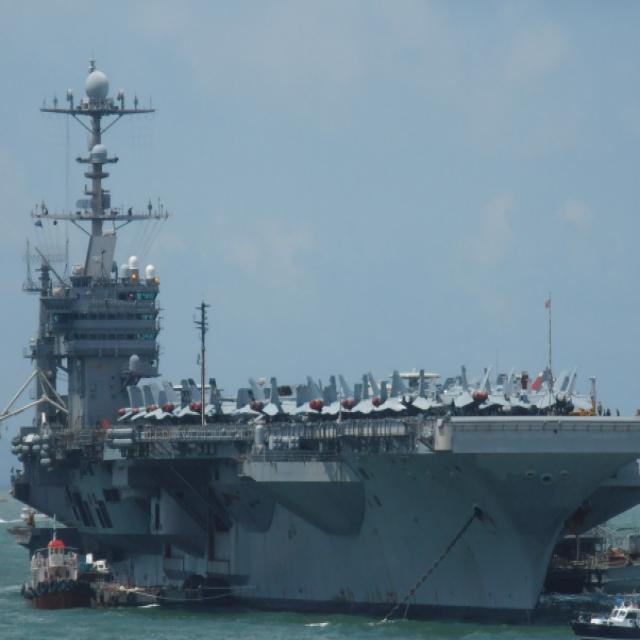Portanaves: (1, 49, 640, 634)
